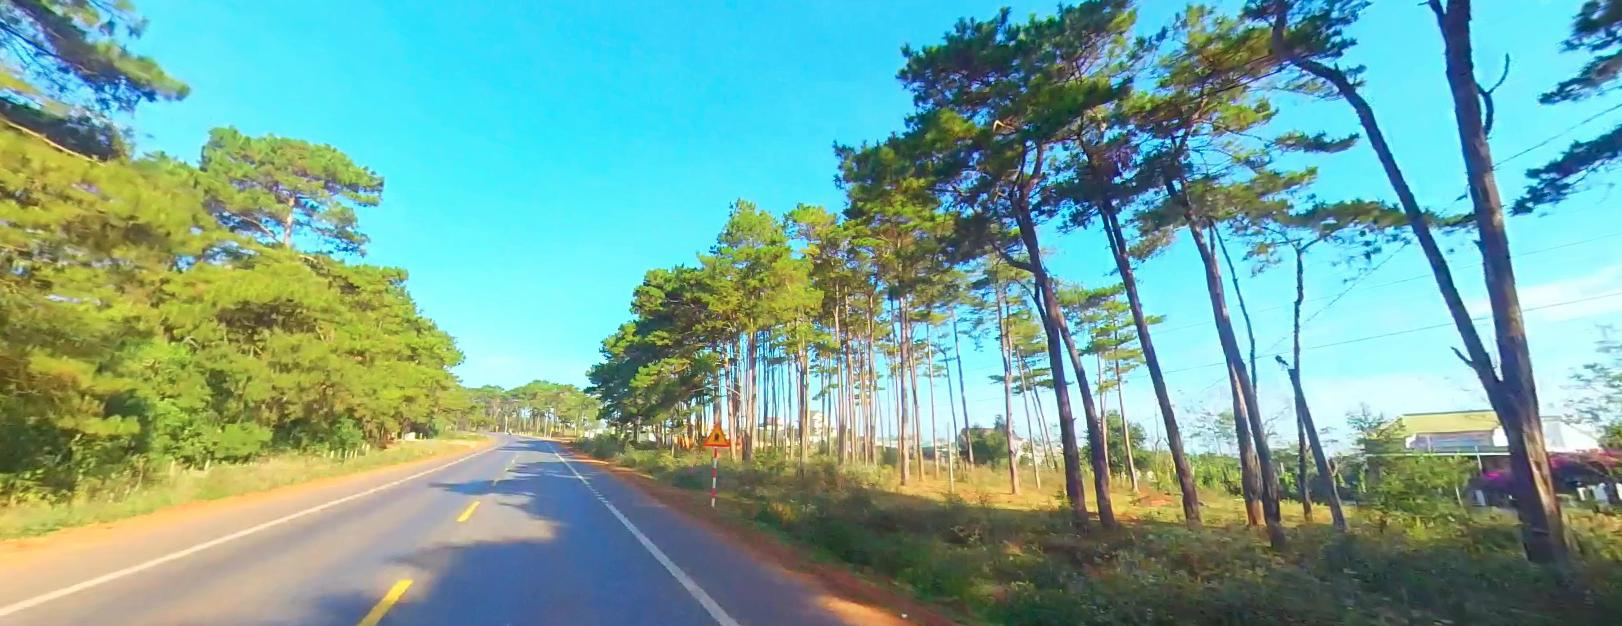Nguy hiem: (702, 422, 728, 445)
